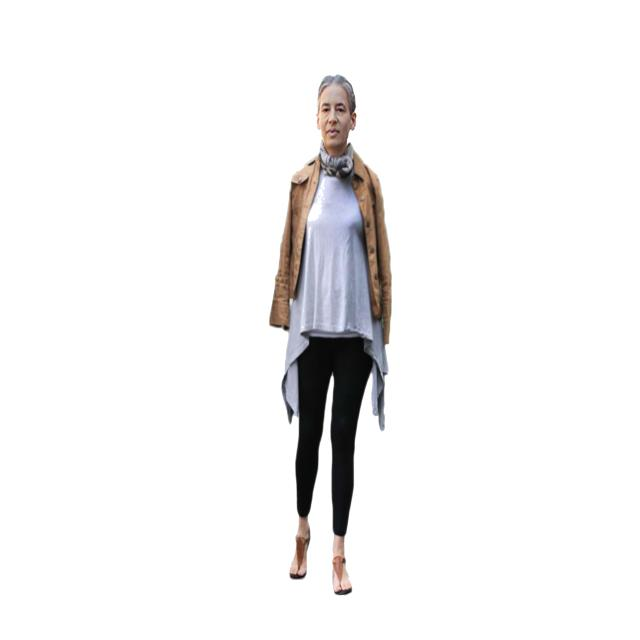jovem: (271, 69, 399, 600)
